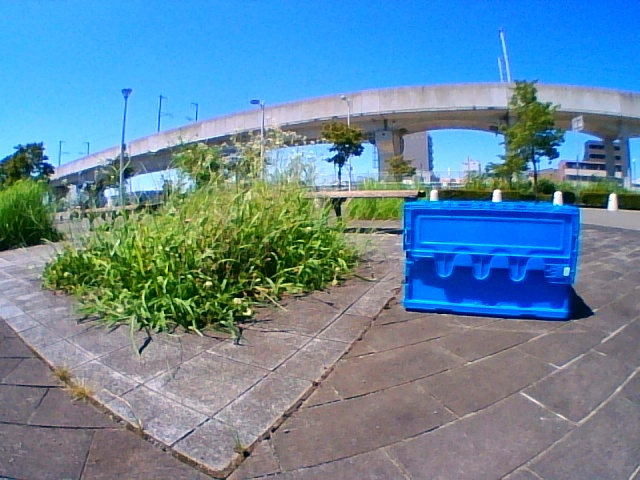blue_box: (404, 203, 569, 309)
